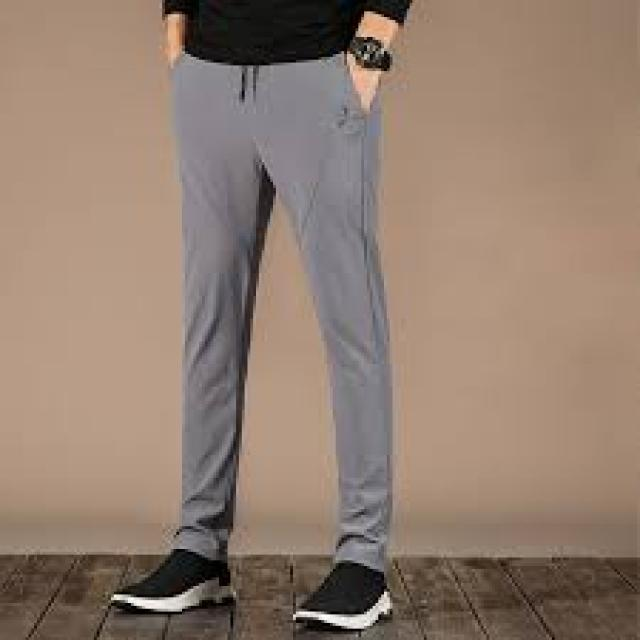long-pants: (171, 52, 394, 574)
